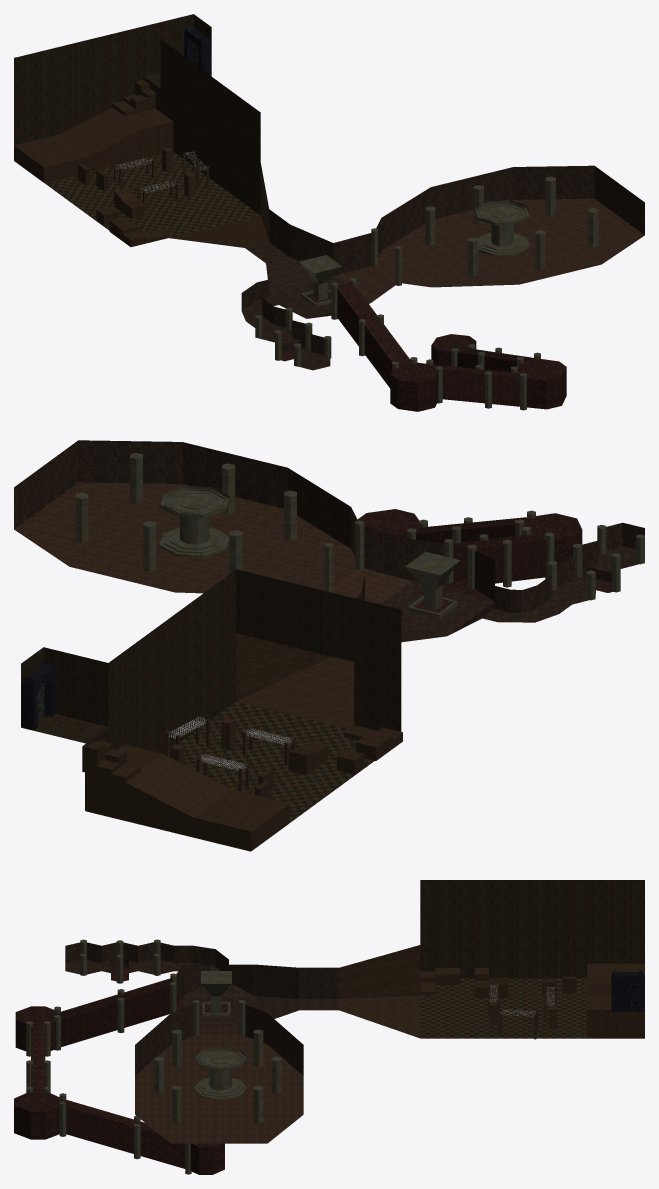
Rendered from TestLevel.fbx.
3 renders of one model, top to bottom at view 1: azimuth 30°, elevation 25°; view 2: azimuth 150°, elevation 25°; view 3: azimuth 270°, elevation 25°, orthographic. The views are drawn at different scales.
Parts seen in each view (by area): view 1: TestLevel2; view 2: TestLevel2; view 3: TestLevel2.
Boxes of the visible parts, x1,y1,x2,y2 form: TestLevel2: (14, 14, 644, 411); TestLevel2: (14, 440, 644, 851); TestLevel2: (14, 880, 644, 1174).
Size of the model in its own units: 114 by 55.17 by 165.
12 materials, 11 textured.
